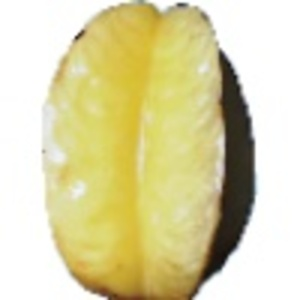carambola: (42, 1, 260, 300)
